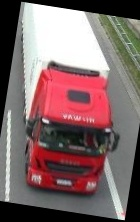truck: (0, 2, 138, 201)
